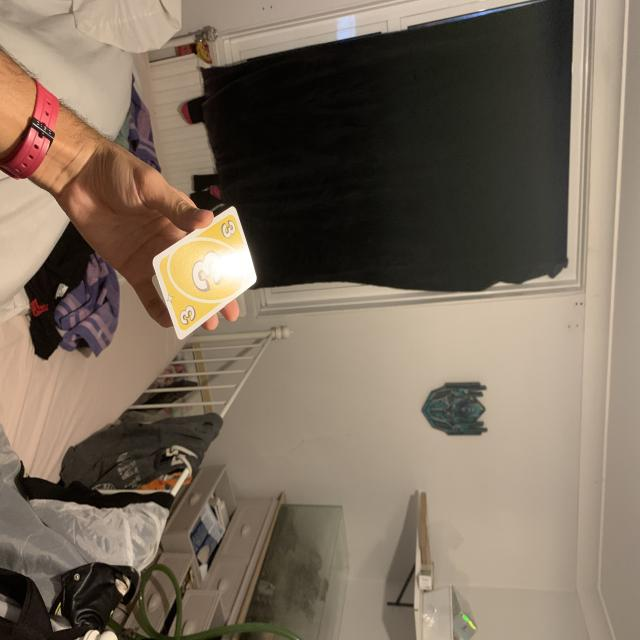lyellow-3: (217, 216, 240, 241)
